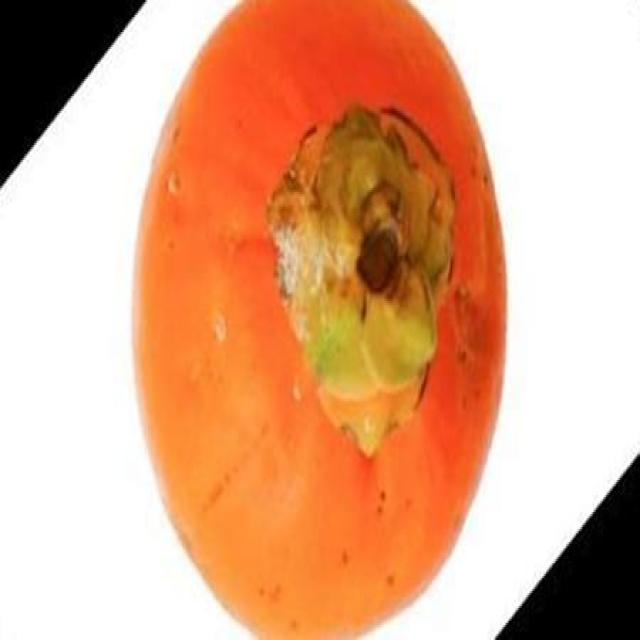good: (144, 0, 506, 638)
